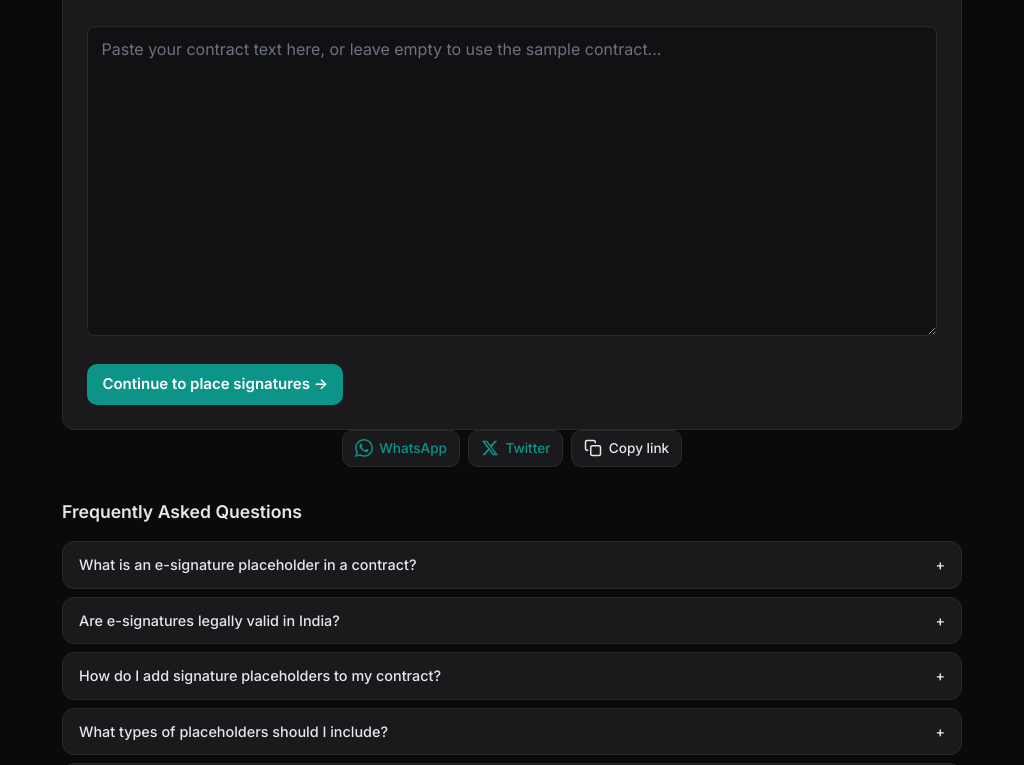
Test case: ESignaturePlaceholderPage › switches to place mode on continue button click
The width and height of the screenshot is (1024, 765).
(page scrolled)
Click the button "Continue to place signatures →": (215, 385) left=87, top=364, right=343, bottom=405
(page scrolled)
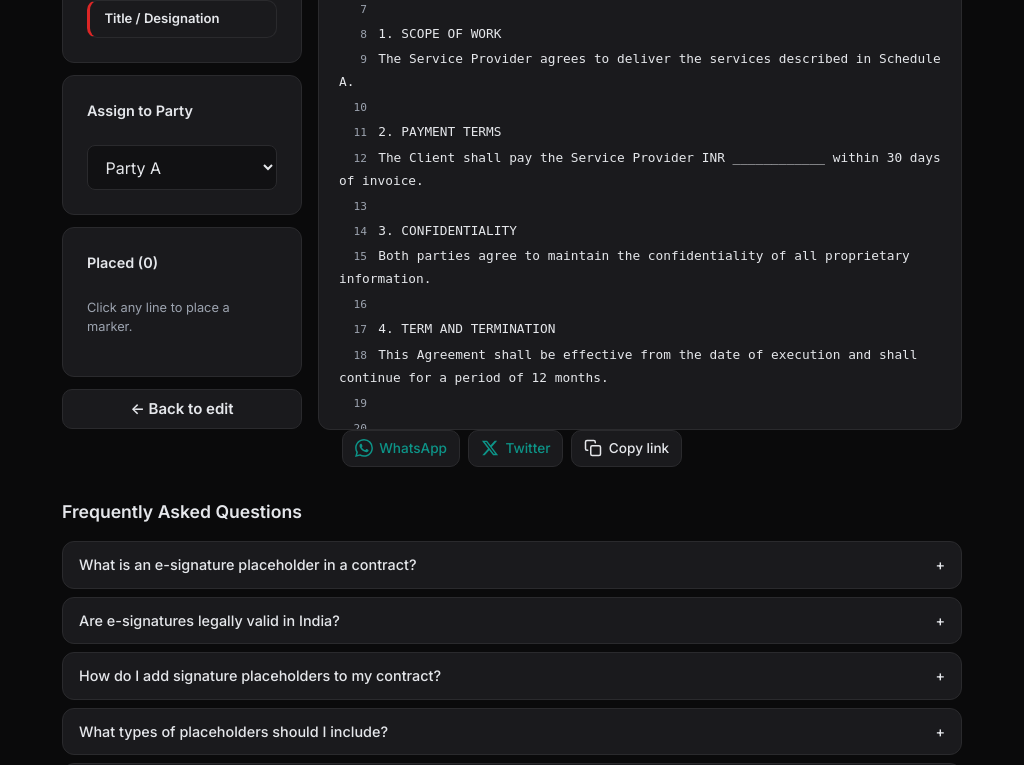
Now the heading "Assign to Party" is shown, box left=87, top=102, right=193, bottom=119
